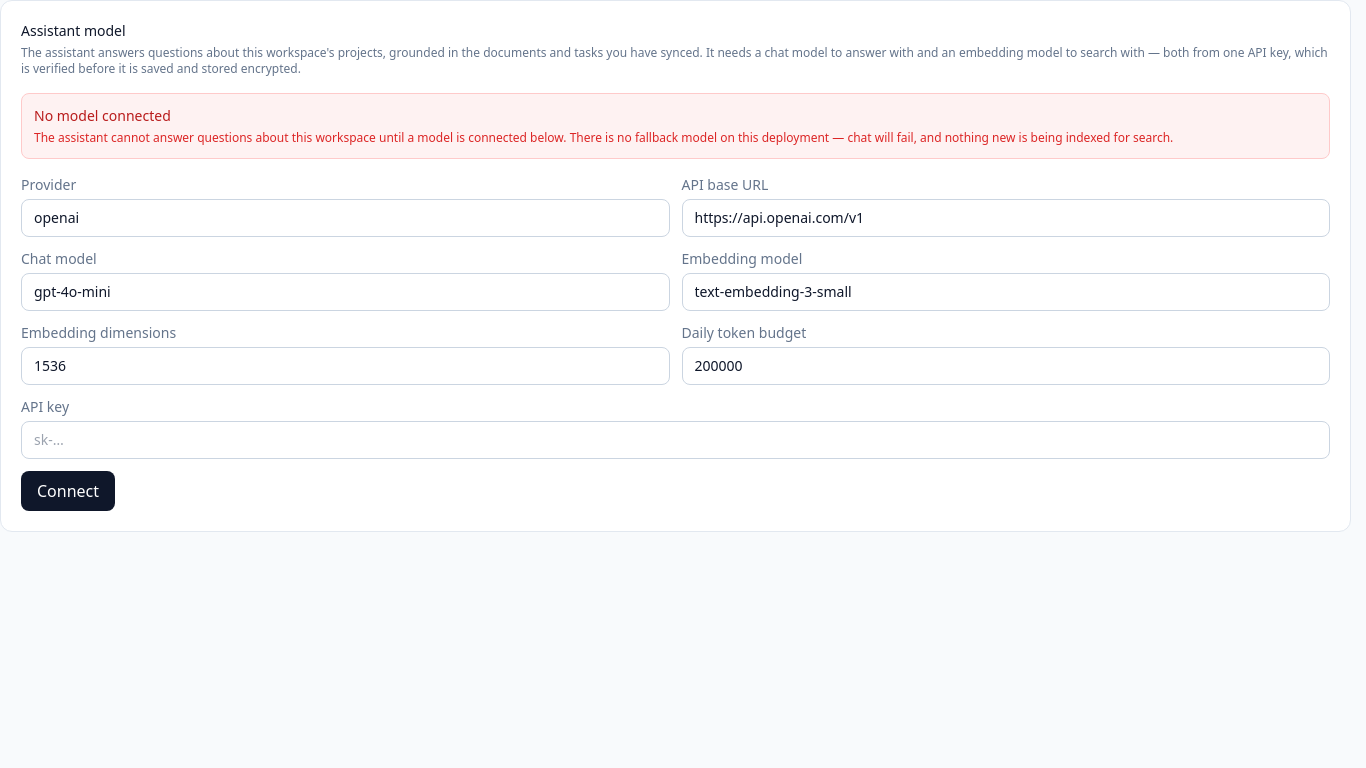
Test: ModelConnectionForm › explains a rejected key instead of showing the raw error code
Expected: the text "No model connected" is shown, [34,106,171,125]
Type "sk-test-key" into the password field labelled "API key". click: (676, 440)
box: [21,421,1330,459]
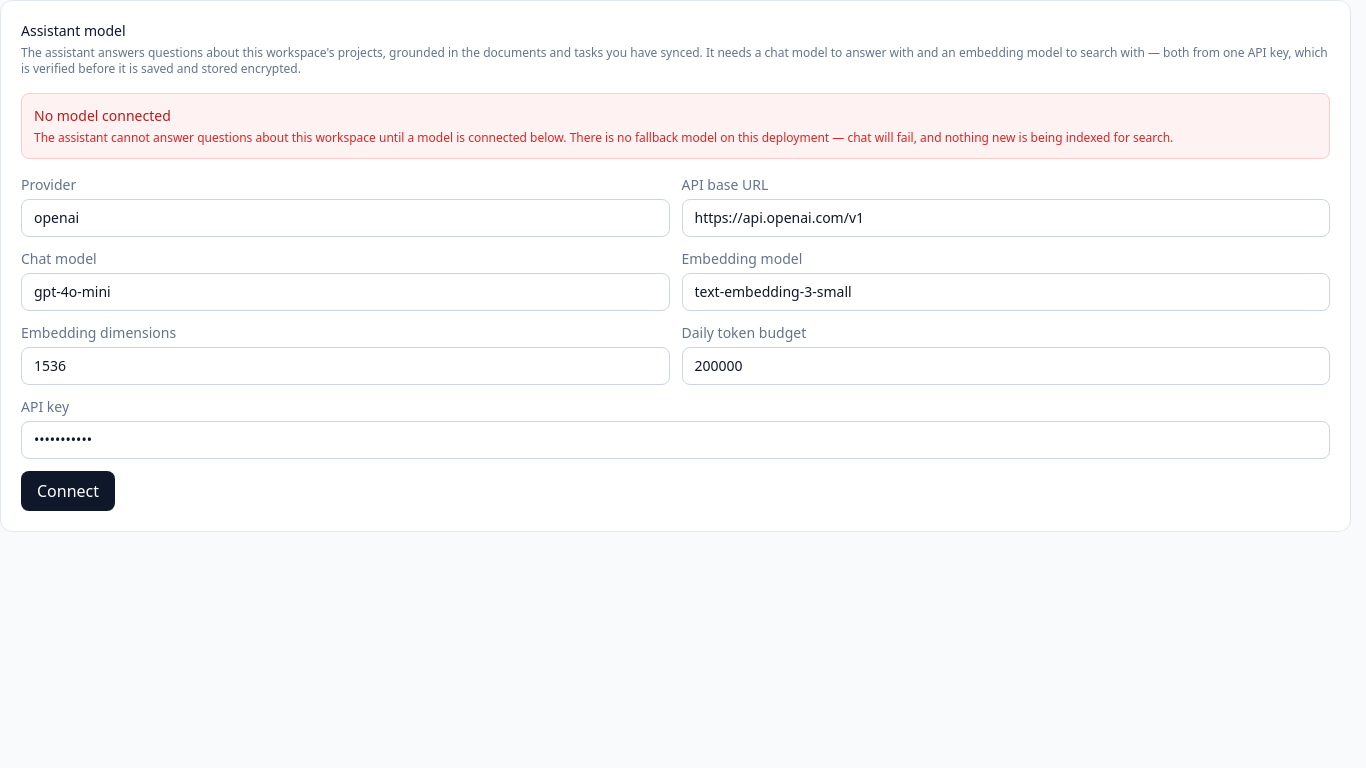
Click the button "Connect". click: (68, 491)
box: [21,471,115,511]
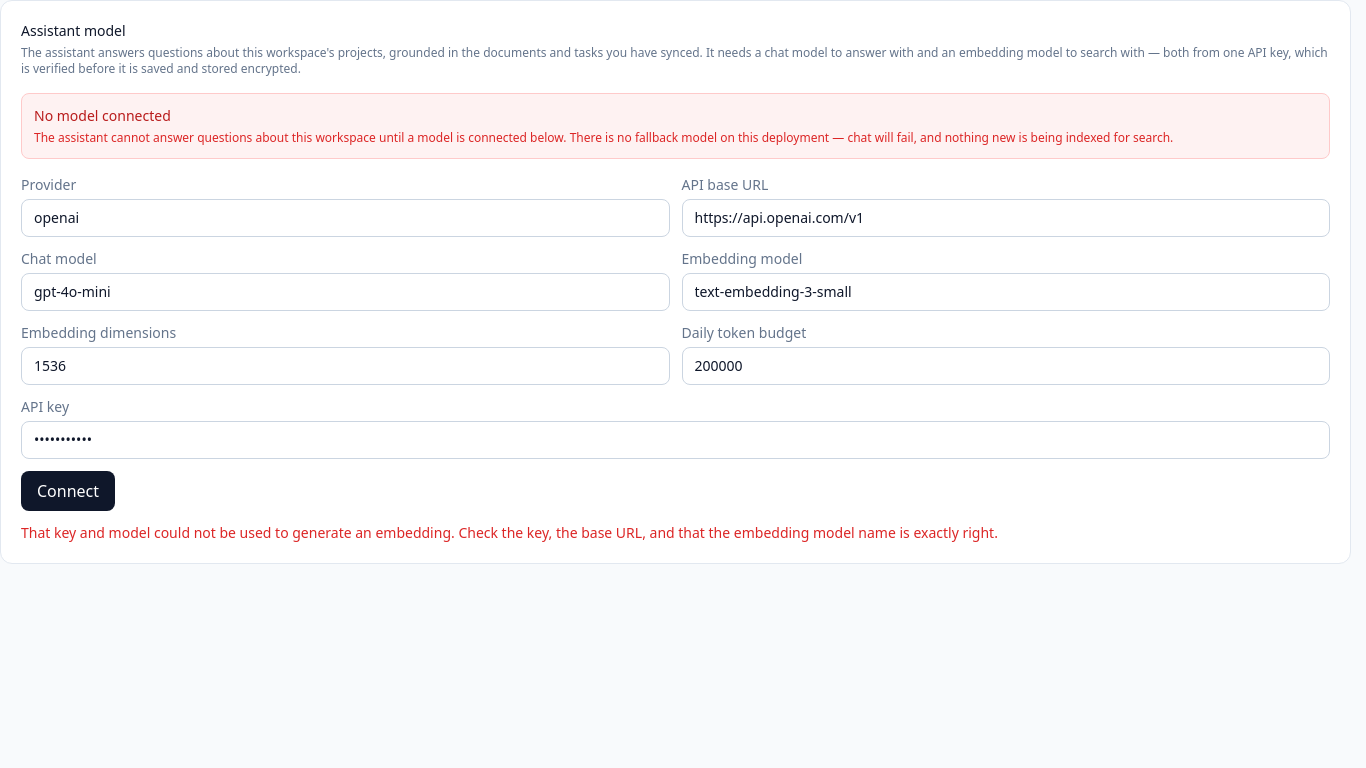
Expected: the text "could not be used to generate an embedding" is shown, [21,523,998,542]
